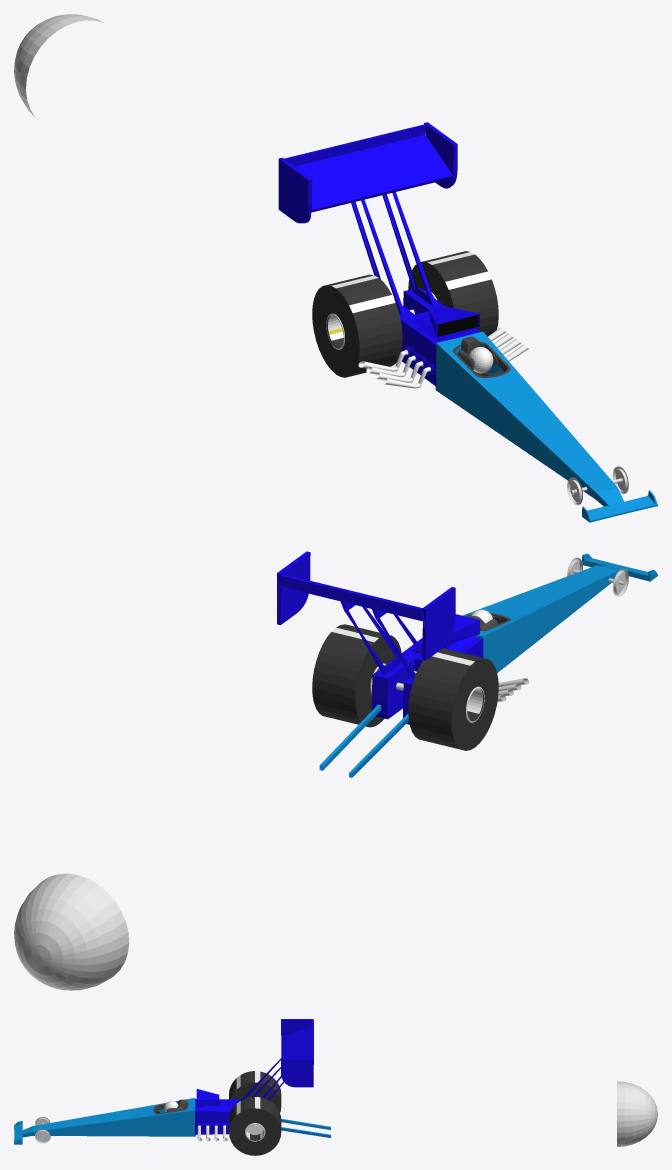
File: realDrag3.glb
3 renders of one model, top to bottom at view 1: azimuth 30°, elevation 25°; view 2: azimuth 150°, elevation 25°; view 3: azimuth 270°, elevation 25°, orthographic. The views are drawn at different scales.
Parts seen in each view (by area): view 1: body, tire-rear.right, tire-rear.left, Torus.001, body.001; view 2: body, Torus.001, tire-rear.right, tire-rear.left; view 3: body, tire-rear.left, Torus.001, tire-rear.right.
Part boxes in pixels (box(x1,y1,x2,y2)): body: box(278, 122, 626, 514); tire-rear.right: box(312, 274, 402, 377); tire-rear.left: box(408, 251, 498, 336); Torus.001: box(14, 14, 410, 311); body.001: box(582, 490, 657, 522); body: box(277, 551, 625, 777); Torus.001: box(14, 683, 403, 990); tire-rear.right: box(408, 648, 498, 750); tire-rear.left: box(312, 624, 403, 727); body: box(14, 1019, 330, 1141); tire-rear.left: box(229, 1097, 281, 1155); Torus.001: box(617, 1081, 657, 1146); tire-rear.right: box(229, 1071, 281, 1112).
Bounding box in the file's own units: 2.89 × 3.52 × 19.56.
